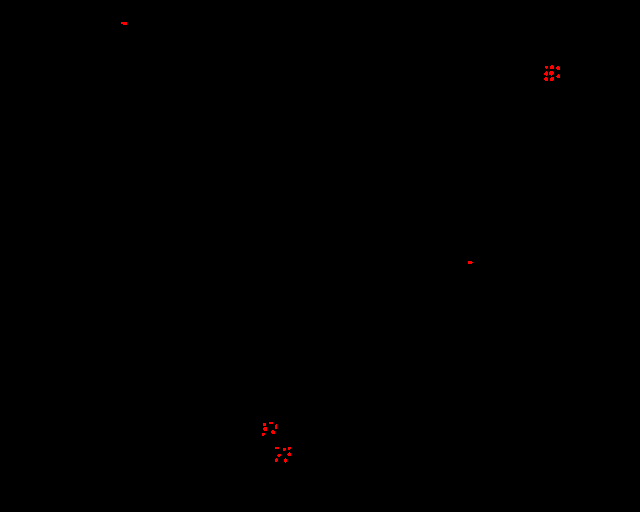Target: (549, 71, 554, 76), (544, 71, 548, 76), (121, 22, 127, 25), (550, 65, 554, 69), (556, 66, 560, 70), (556, 74, 560, 78), (544, 77, 548, 81), (550, 77, 554, 81), (263, 427, 267, 431), (271, 430, 275, 434), (287, 452, 291, 456), (468, 261, 473, 264), (284, 458, 287, 463), (277, 454, 281, 457), (275, 458, 278, 462), (275, 424, 277, 429), (545, 66, 548, 69), (263, 423, 266, 426), (262, 433, 265, 436), (288, 447, 291, 450), (283, 448, 286, 451), (269, 422, 273, 424), (275, 447, 279, 449)
